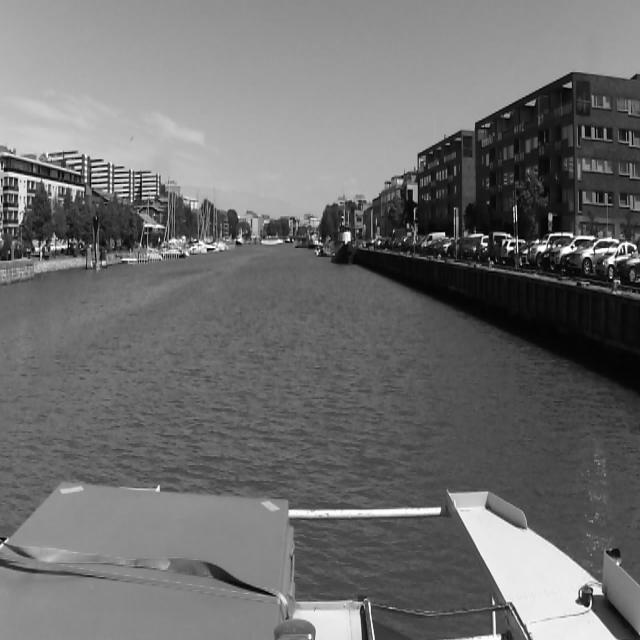ship: (330, 194, 354, 265), (170, 177, 190, 258), (260, 234, 284, 246), (292, 236, 308, 248), (316, 240, 326, 258), (124, 253, 140, 263)
